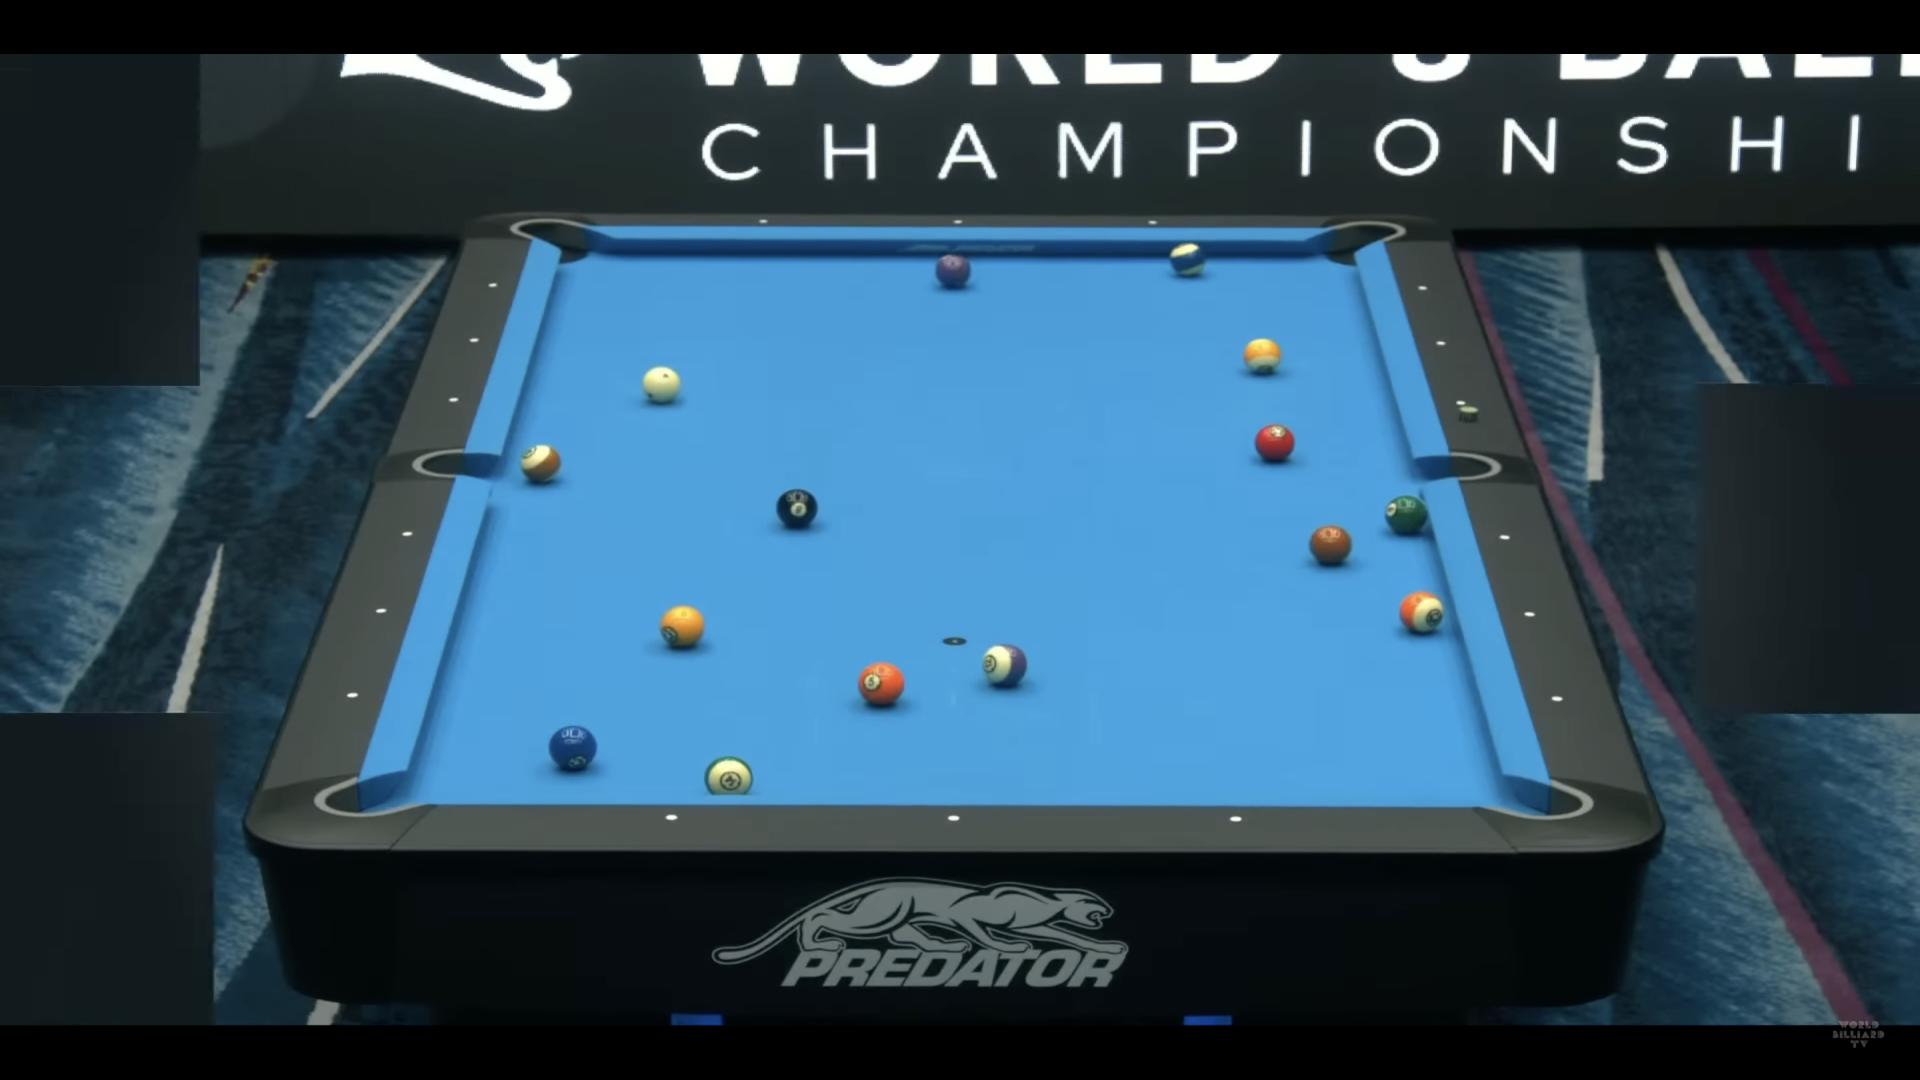Black: (776, 488, 818, 526)
Cue: (642, 366, 680, 404)
Dot: (1228, 812, 1244, 827), (662, 810, 678, 824), (946, 811, 962, 825), (1414, 281, 1430, 295), (1434, 336, 1450, 350), (1452, 395, 1468, 409), (1550, 691, 1564, 704), (1522, 607, 1536, 620), (1498, 532, 1512, 544), (374, 604, 388, 616), (346, 690, 359, 702), (401, 528, 414, 540), (447, 394, 460, 406), (468, 334, 481, 346), (486, 279, 498, 291), (758, 216, 770, 226), (953, 217, 964, 227), (1148, 220, 1159, 230)
Solid: (549, 726, 598, 770), (858, 662, 906, 704), (660, 604, 705, 647), (1385, 495, 1428, 535), (1309, 526, 1352, 564), (1254, 424, 1294, 461), (936, 254, 971, 286)
Striped: (982, 644, 1028, 686), (705, 756, 753, 795), (1400, 591, 1444, 633), (520, 444, 561, 483), (1244, 338, 1282, 373), (1170, 242, 1206, 276)
